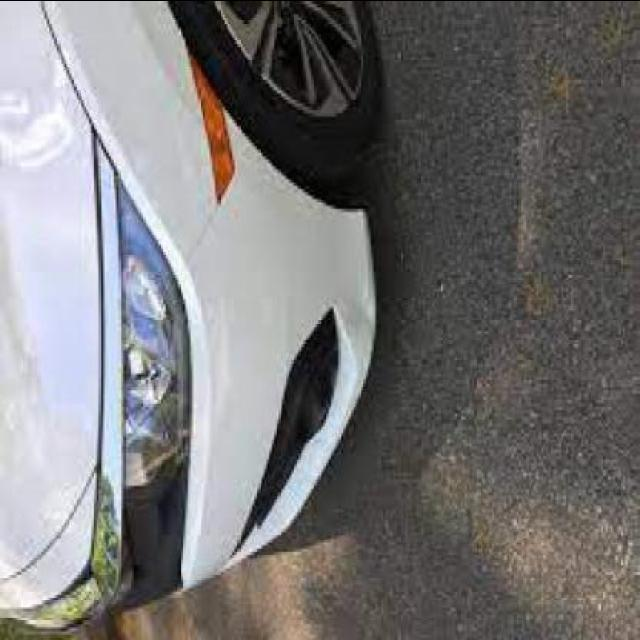front-bumper-dent: (173, 26, 396, 627)
